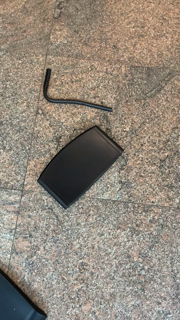Back: (37, 125, 126, 212), (44, 68, 116, 116)
